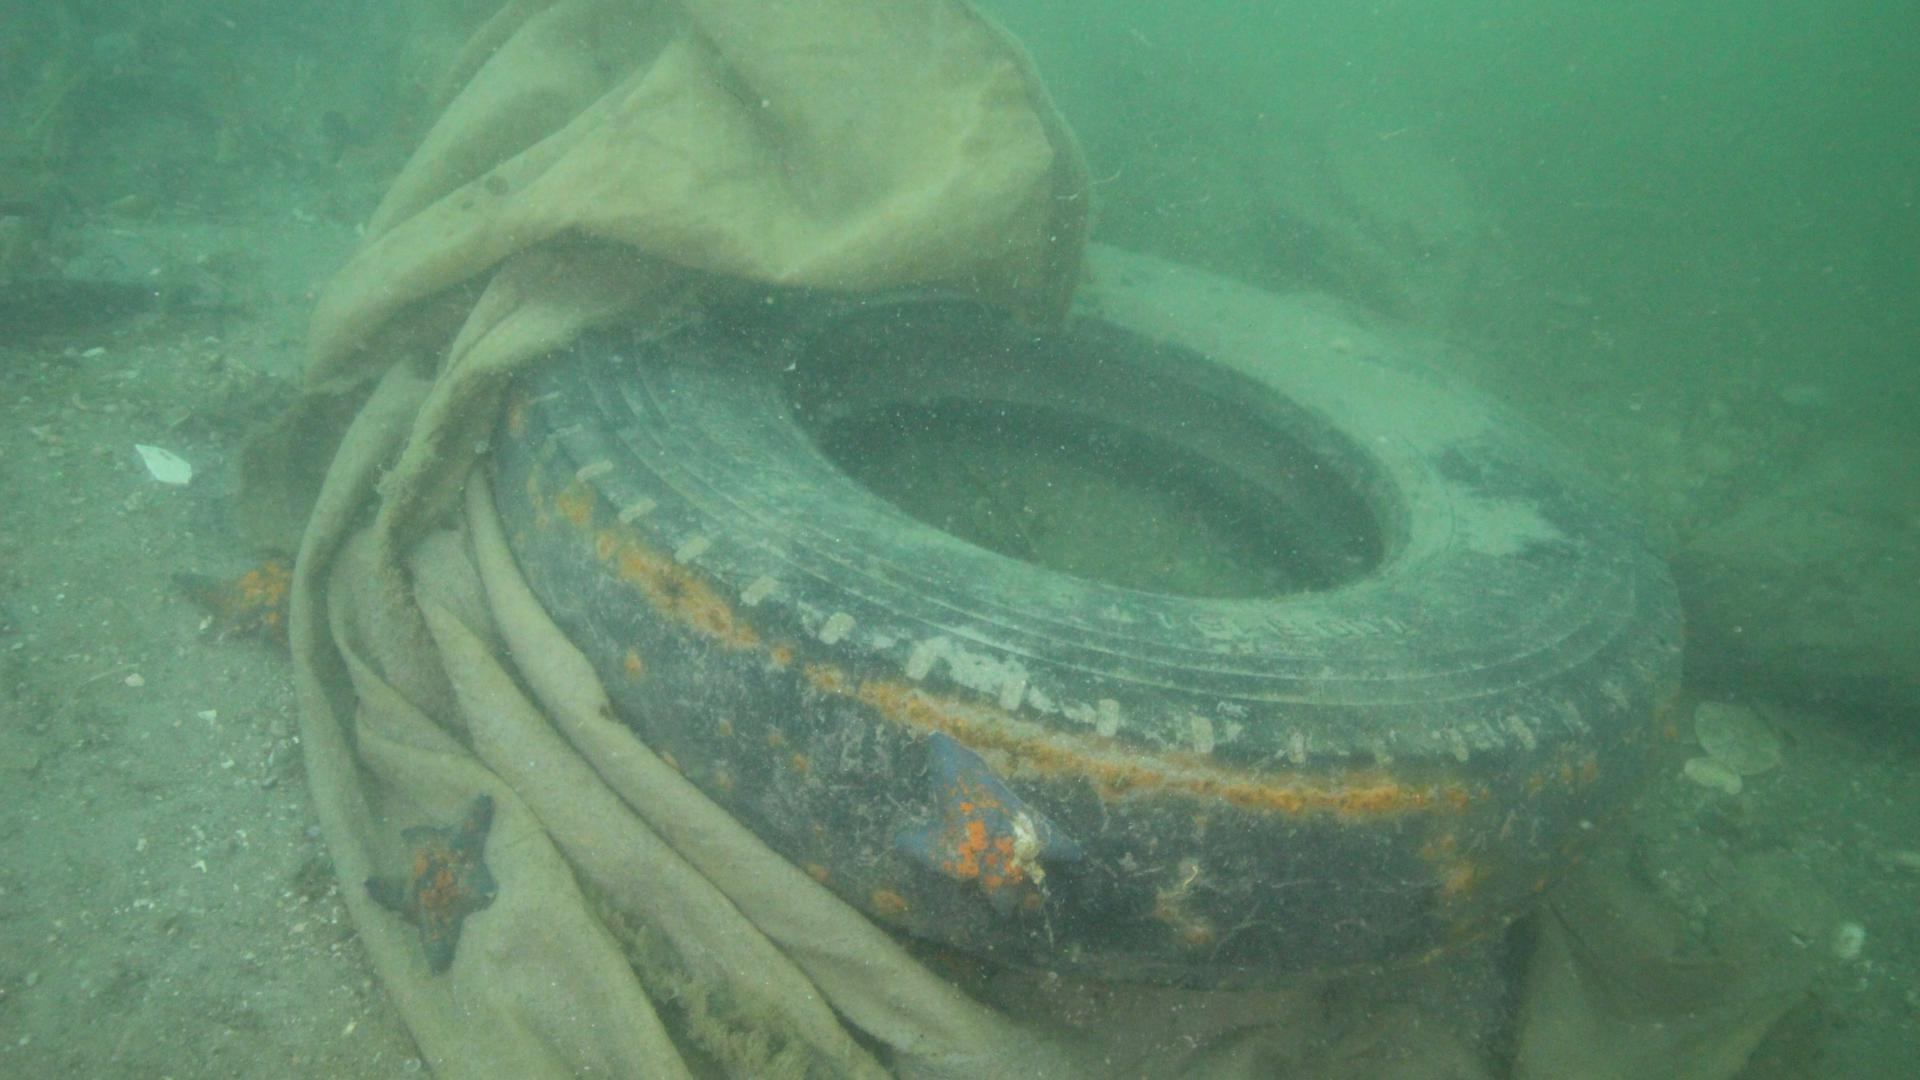tire: (483, 233, 1679, 998)
